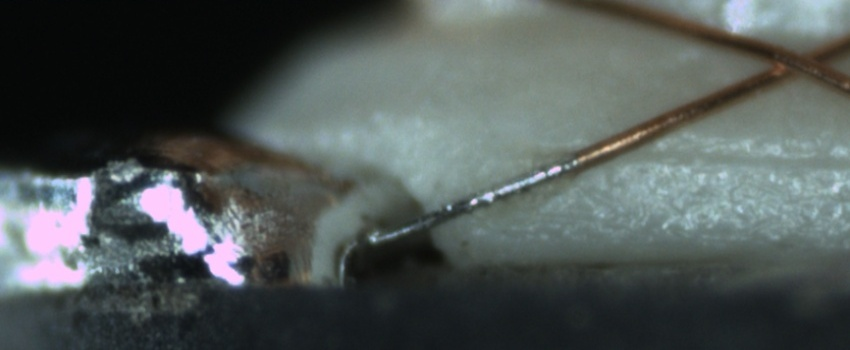CL: (755, 35, 841, 86)
DL: (579, 126, 848, 190)
TS: (367, 157, 577, 244)
